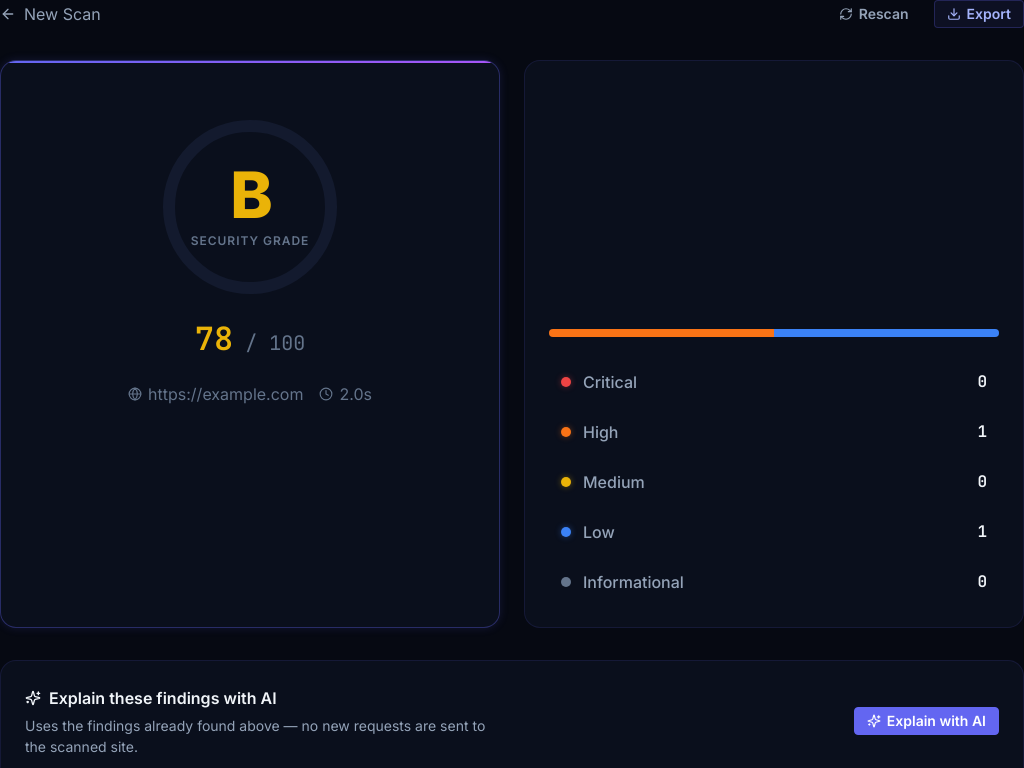
ResultsPage — Explain with AI (BYOK) › lets the user regenerate the explanation
The image size is (1024, 768).
Click the button "Explain with AI": (926, 721) [854,707,999,735]
(page scrolled)
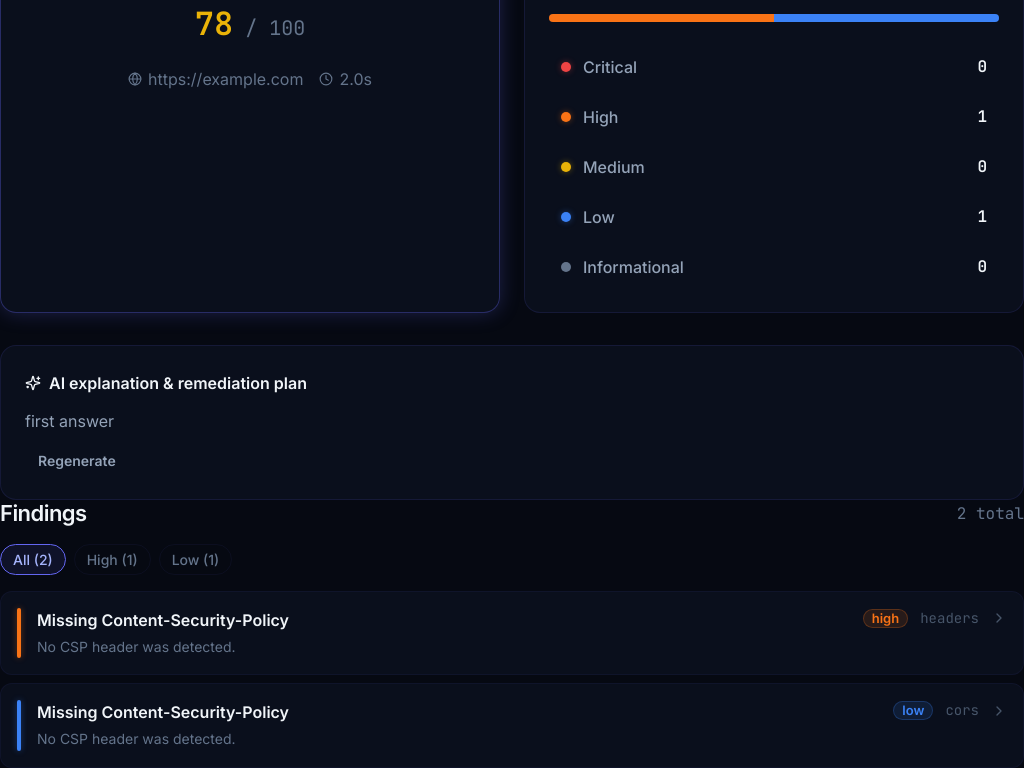
Result: the text "first answer" is shown at [25,411,114,431]
Click the button "Regenerate": (77, 461) [25,447,129,475]
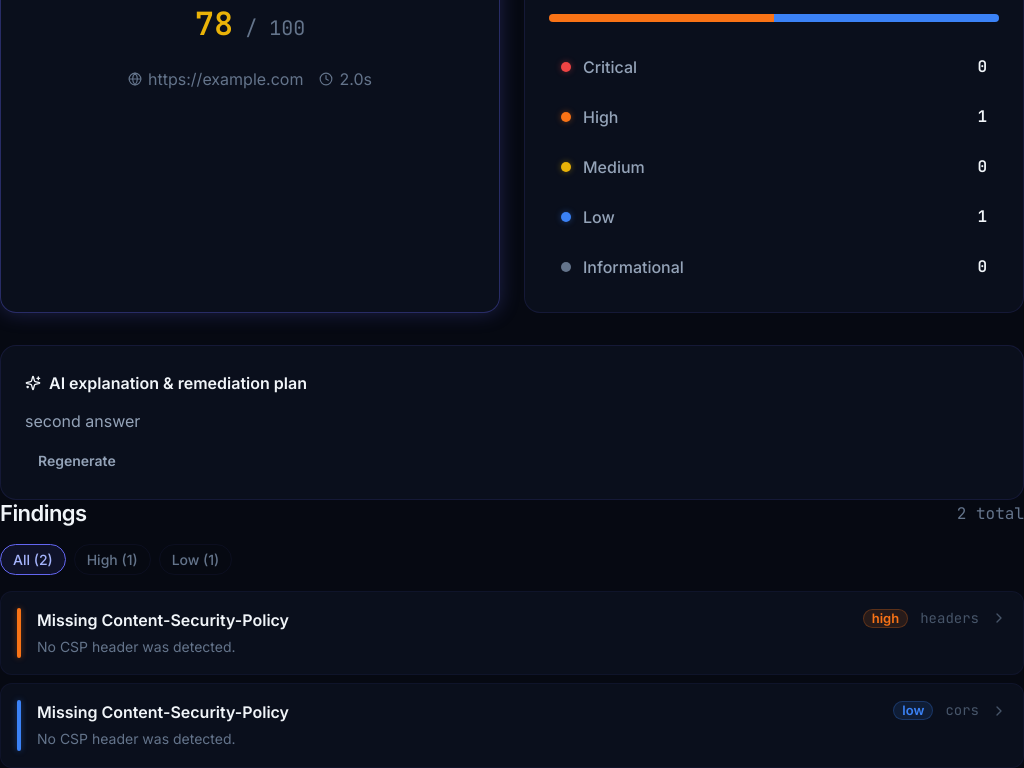
Result: the text "second answer" is shown at [25,411,140,431]
